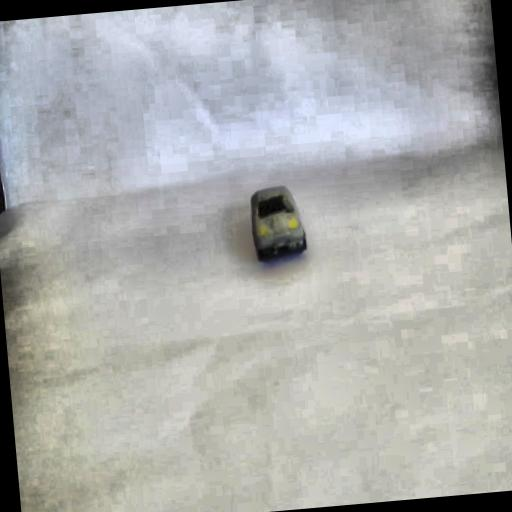normal_car: (246, 182, 312, 265)
